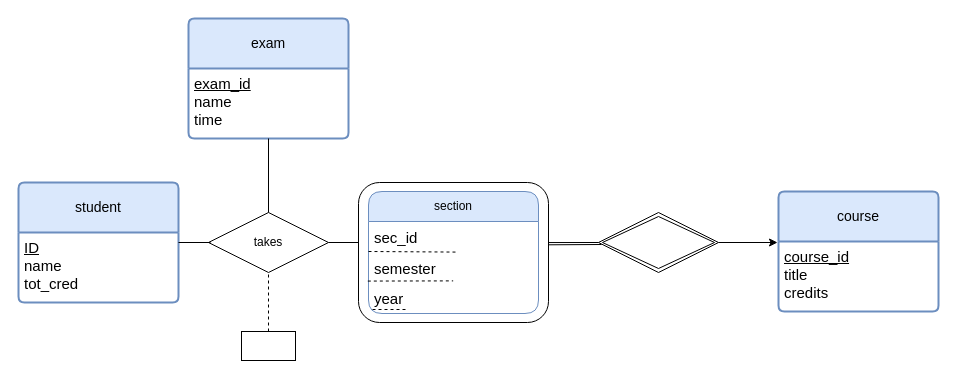
Image size: 956x378. Some labels were removed from this diagram. Here are the shapes that lost their labels. From the top down, the centre of each, then its label:
point 658,242: sec_course
point 268,345: marks
